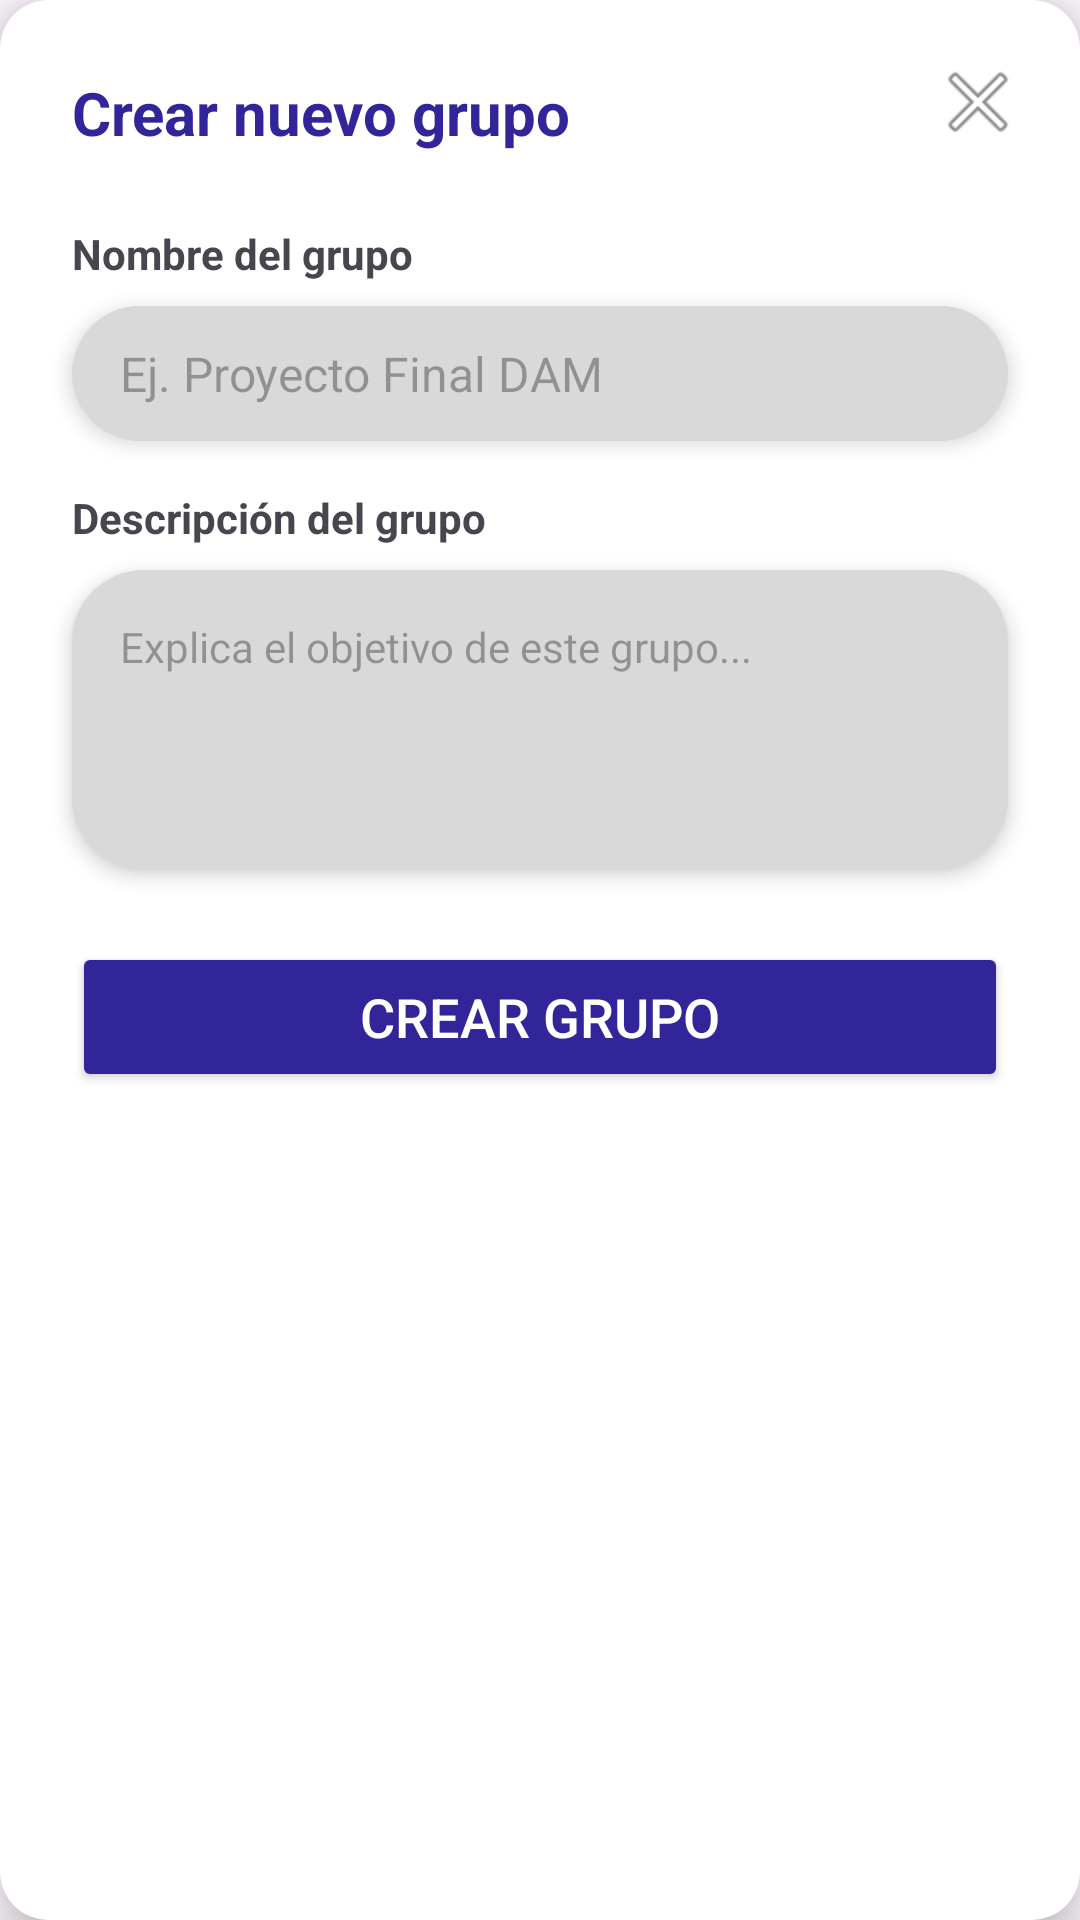

Screen size 1080px x 1920px. Icon name, then its box in pixels as (x1, y1, x2, y2):
Cerrar: (948, 72, 1008, 132)
